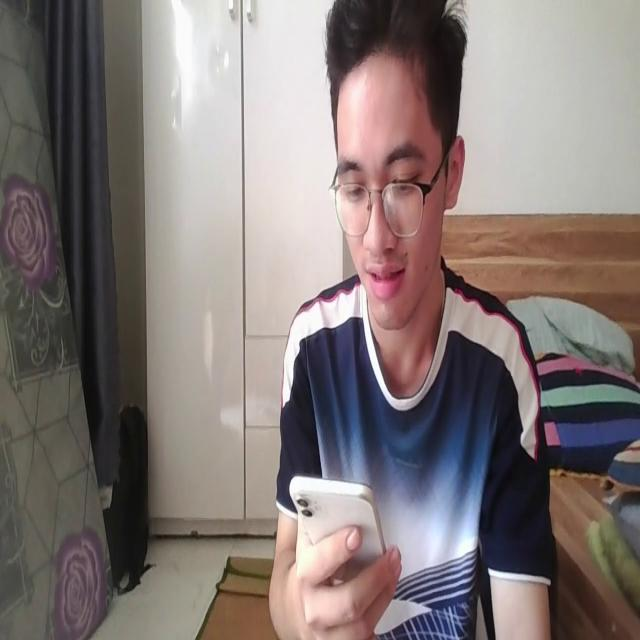phone: (288, 471, 387, 564)
student: (274, 1, 554, 640)
